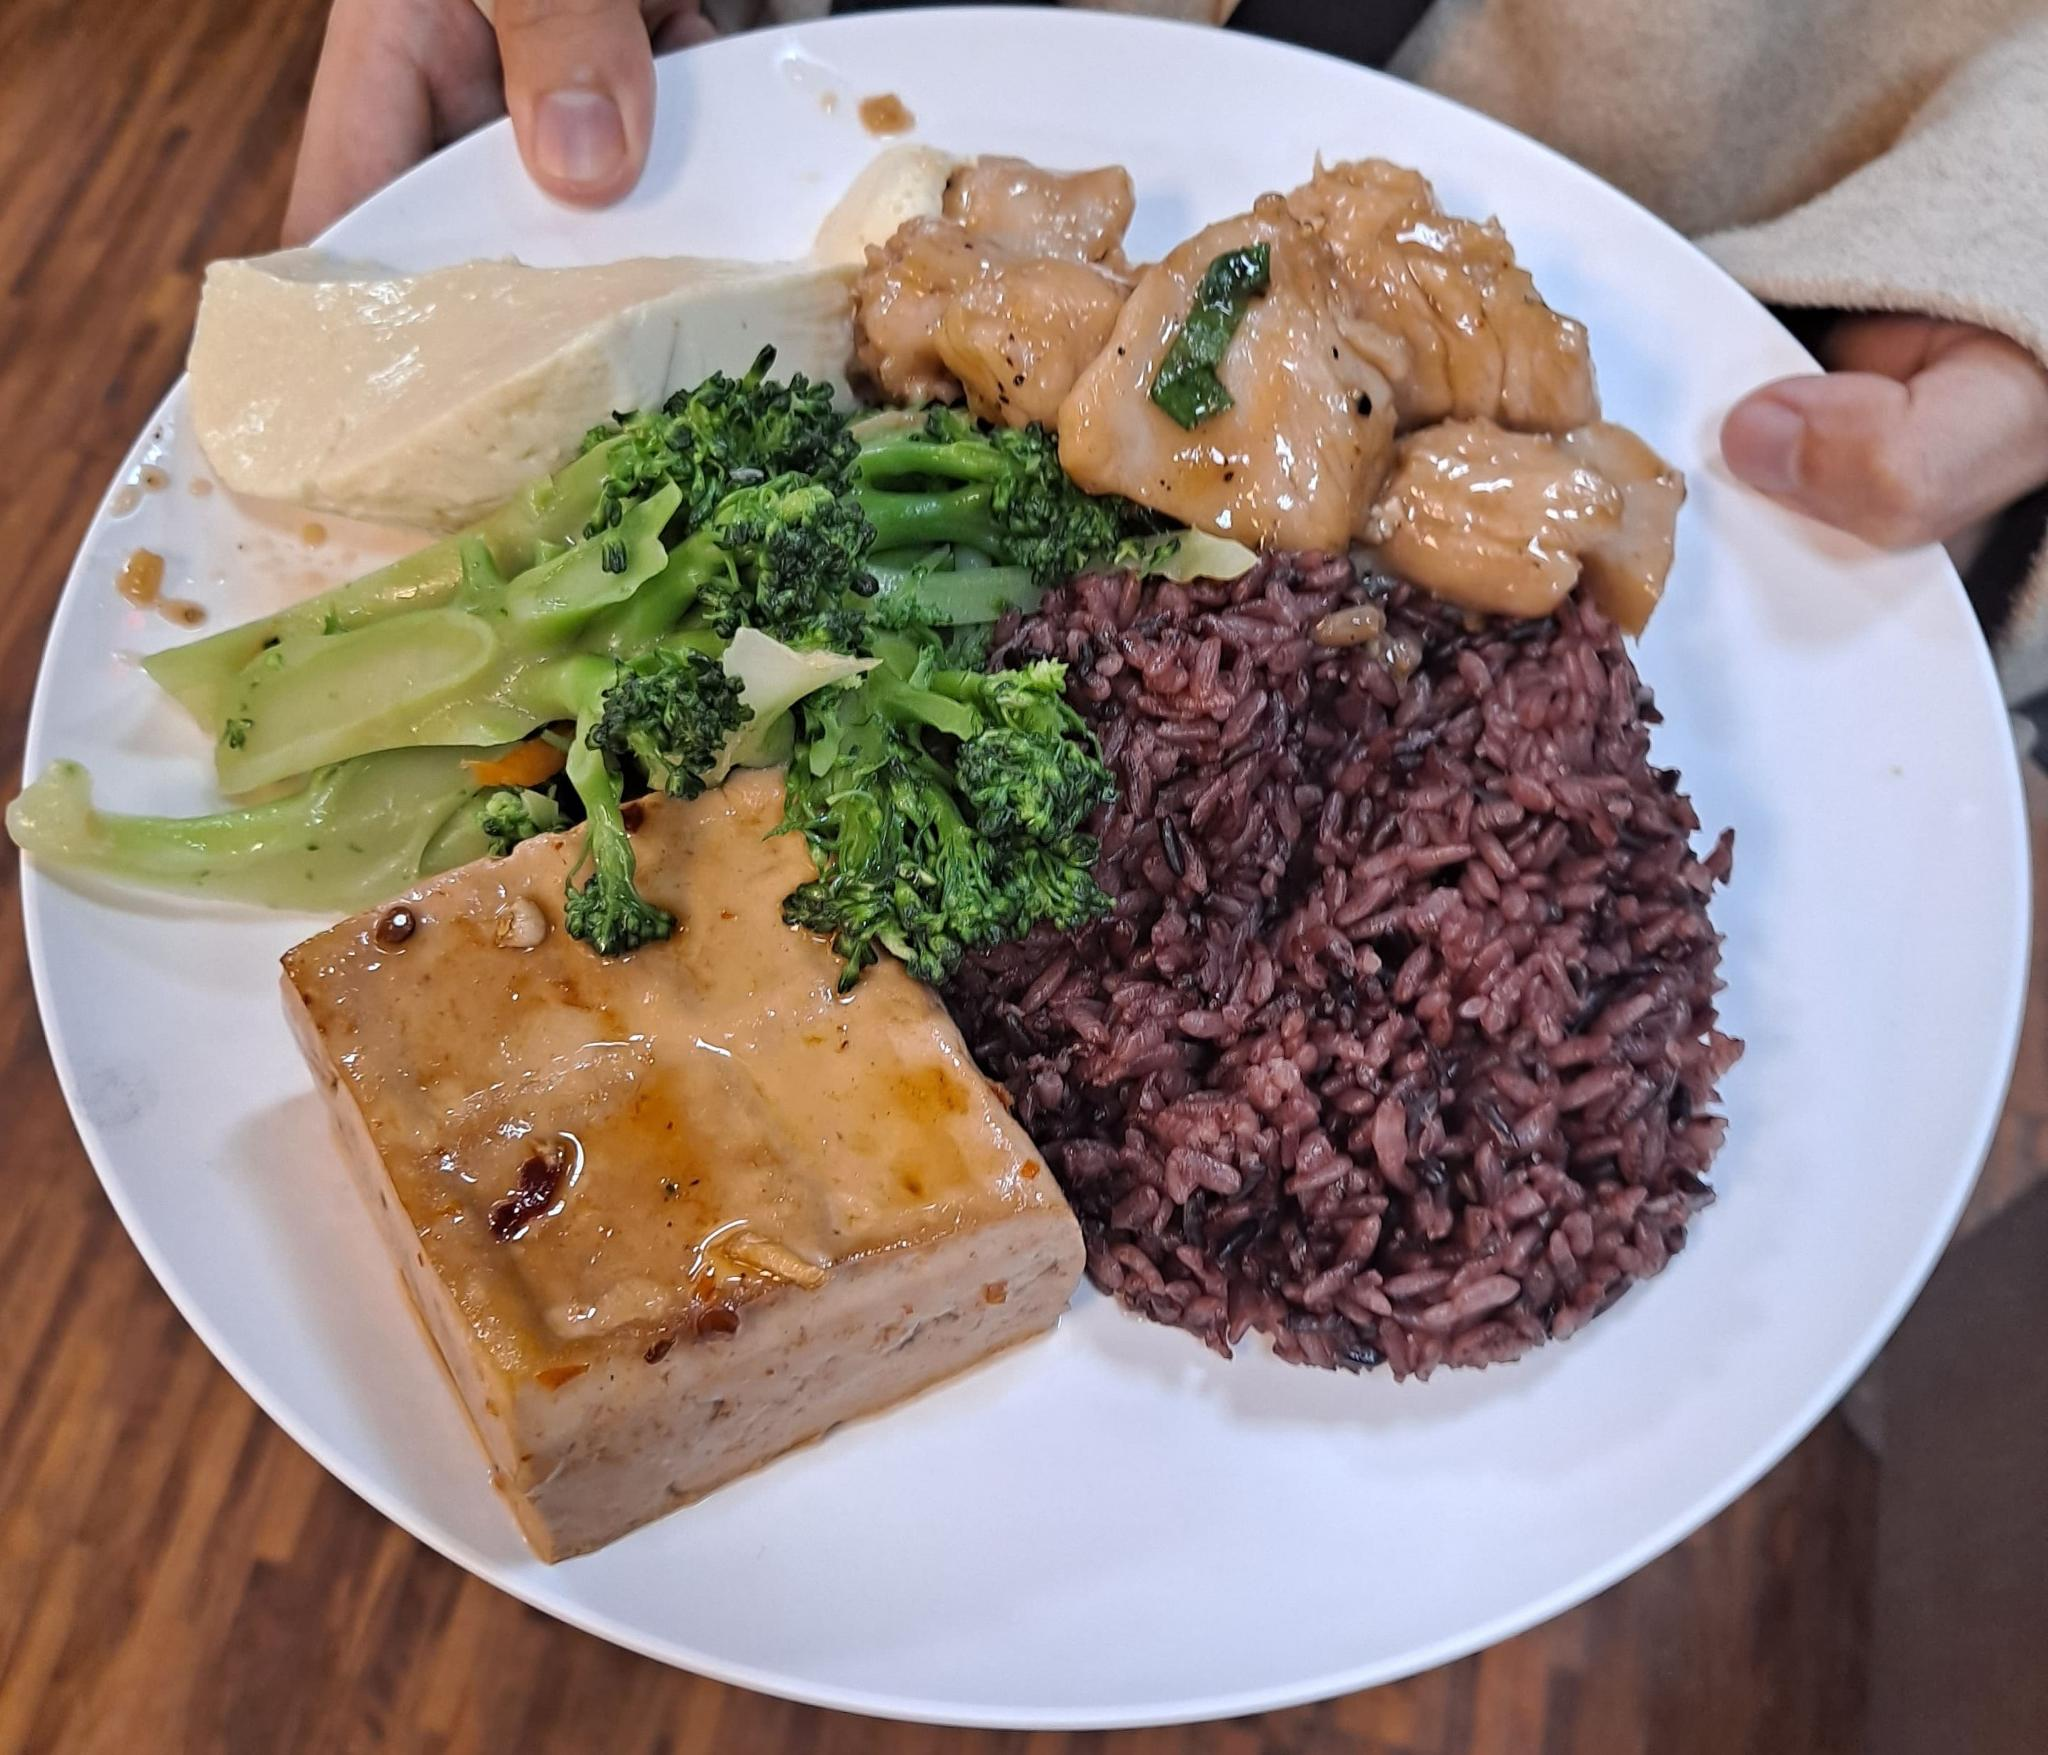big fried chicken leg: (9, 0, 2048, 1750)
braised fish: (947, 573, 1735, 1381)
braised fish fillet: (265, 766, 1097, 1583), (0, 390, 1090, 987), (176, 223, 850, 541)
braised pork: (876, 134, 1696, 616)
